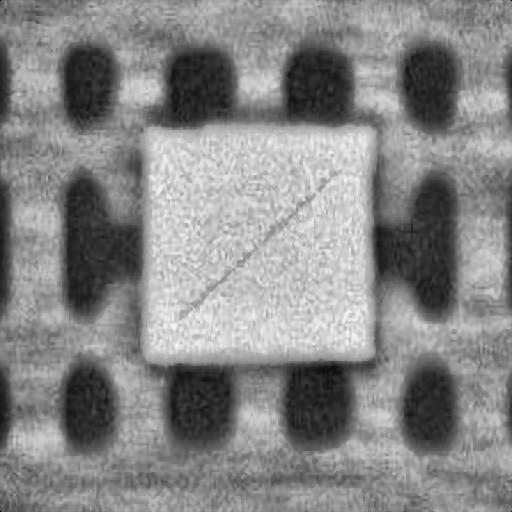DIE_CRACK: (265, 112, 504, 210)
